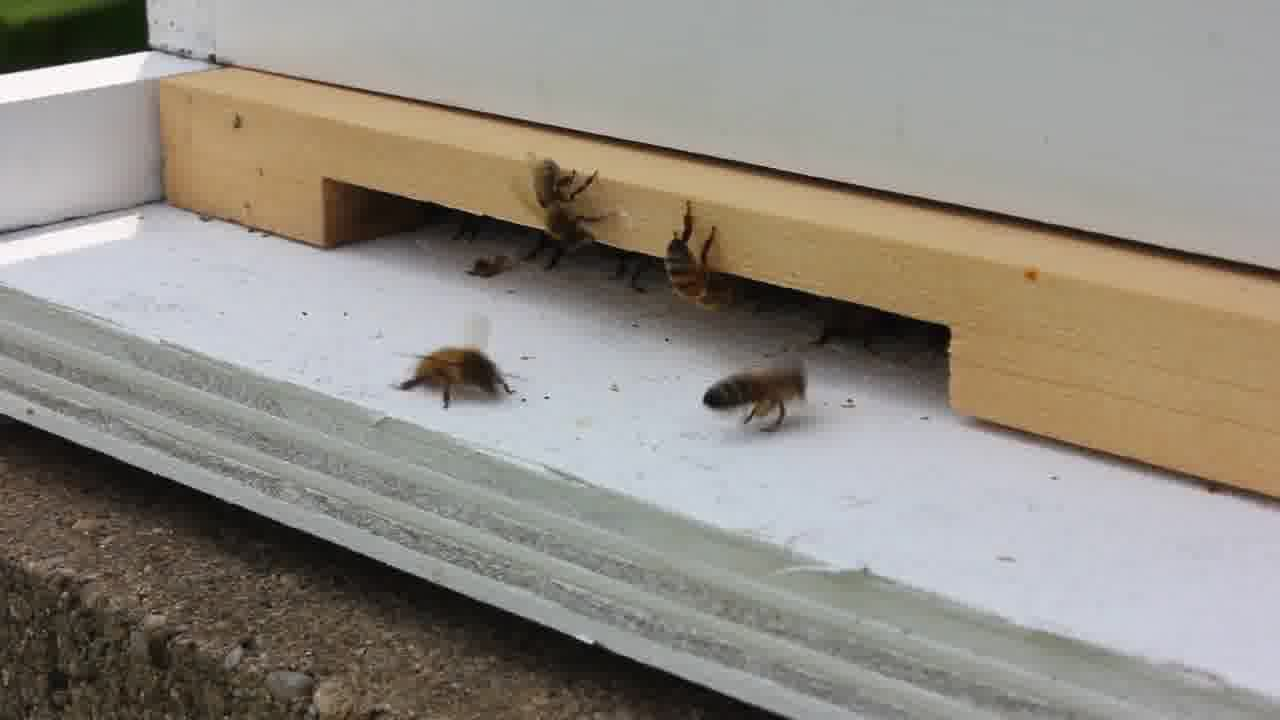pollen: (705, 360, 814, 444)
